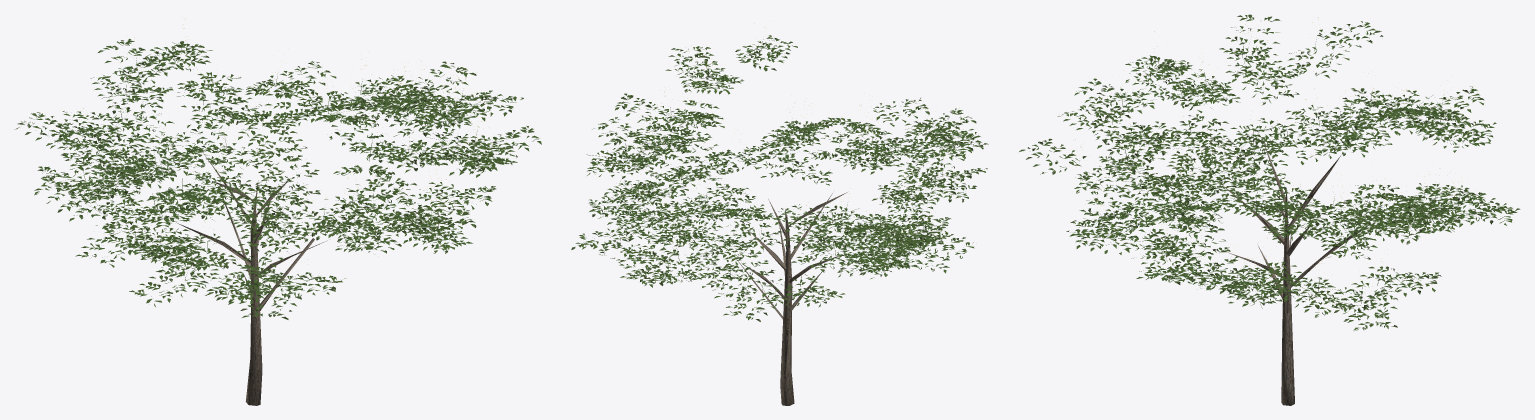
File: koelreuteria-3.glb
3 renders of one model, left to right at view 1: azimuth 30°, elevation 25°; view 2: azimuth 150°, elevation 25°; view 3: azimuth 270°, elevation 25°, orthographic. The views are drawn at different scales.
Parts seen in each view (by area): view 1: leaf, leaf-edge, bark, leaf-back; view 2: leaf, leaf-edge, bark; view 3: leaf, leaf-edge, bark.
Boxes of the visible parts, <box> form: leaf: <box>14,38,541,319</box>; leaf-edge: <box>17,40,534,319</box>; bark: <box>177,150,327,405</box>; leaf-back: <box>40,41,519,301</box>; leaf: <box>573,35,988,321</box>; leaf-edge: <box>571,37,987,321</box>; bark: <box>738,192,847,405</box>; leaf: <box>1019,14,1518,330</box>; leaf-edge: <box>1023,14,1520,329</box>; bark: <box>1216,139,1368,405</box>.
Bounding box in the file's own units: 4.57 × 3.39 × 4.48.
Materials: 5 (4 with a texture image).
